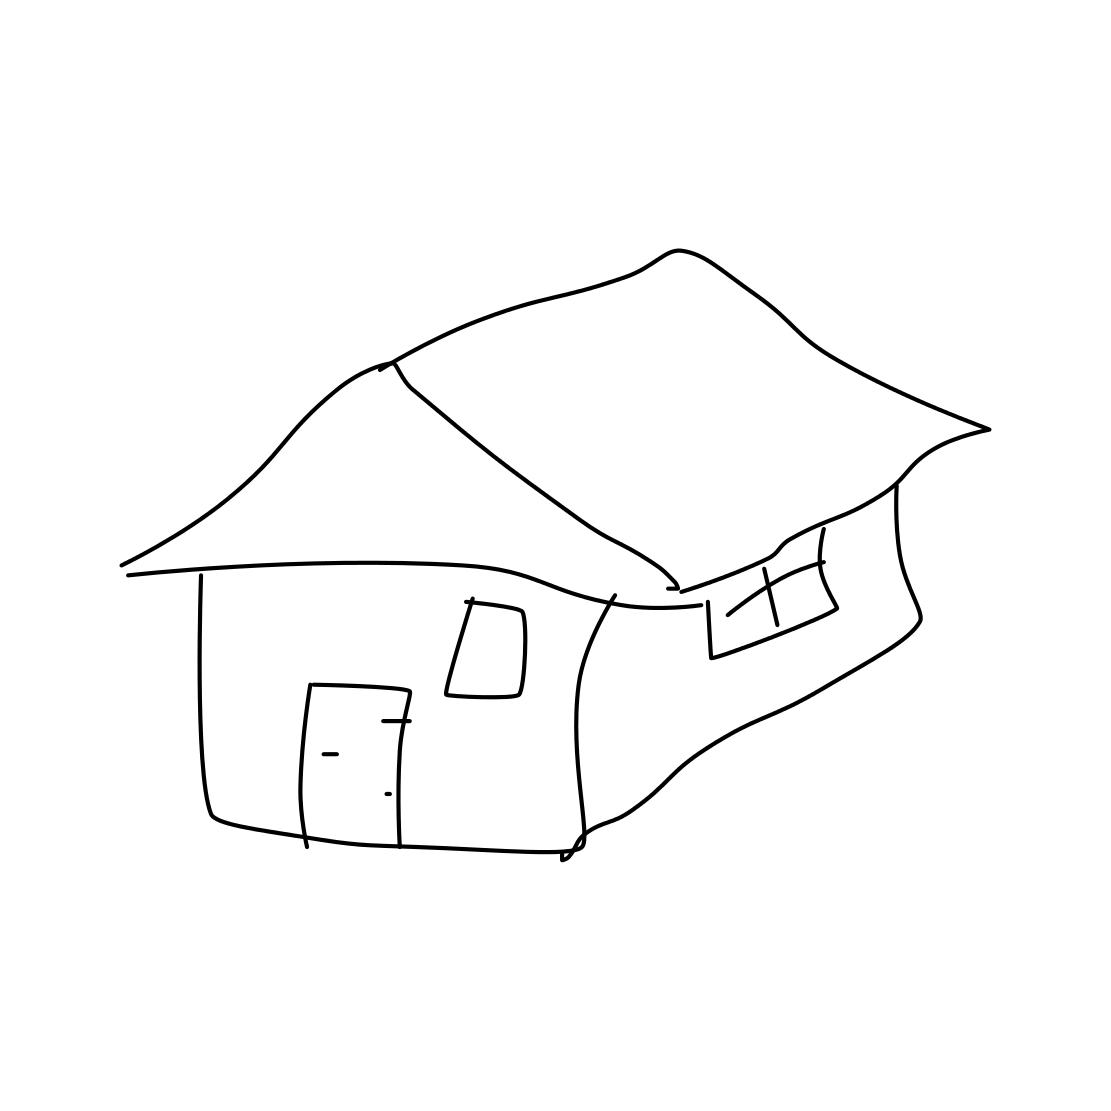House: (92, 226, 990, 881)
